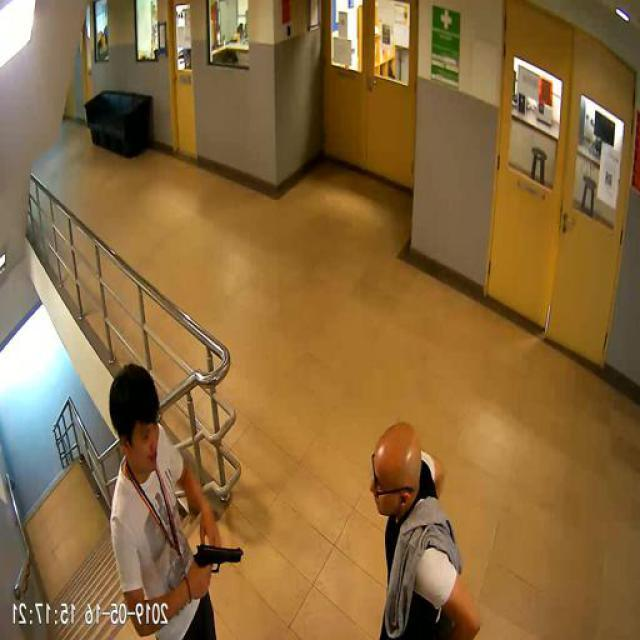Gun: (195, 541, 245, 595)
